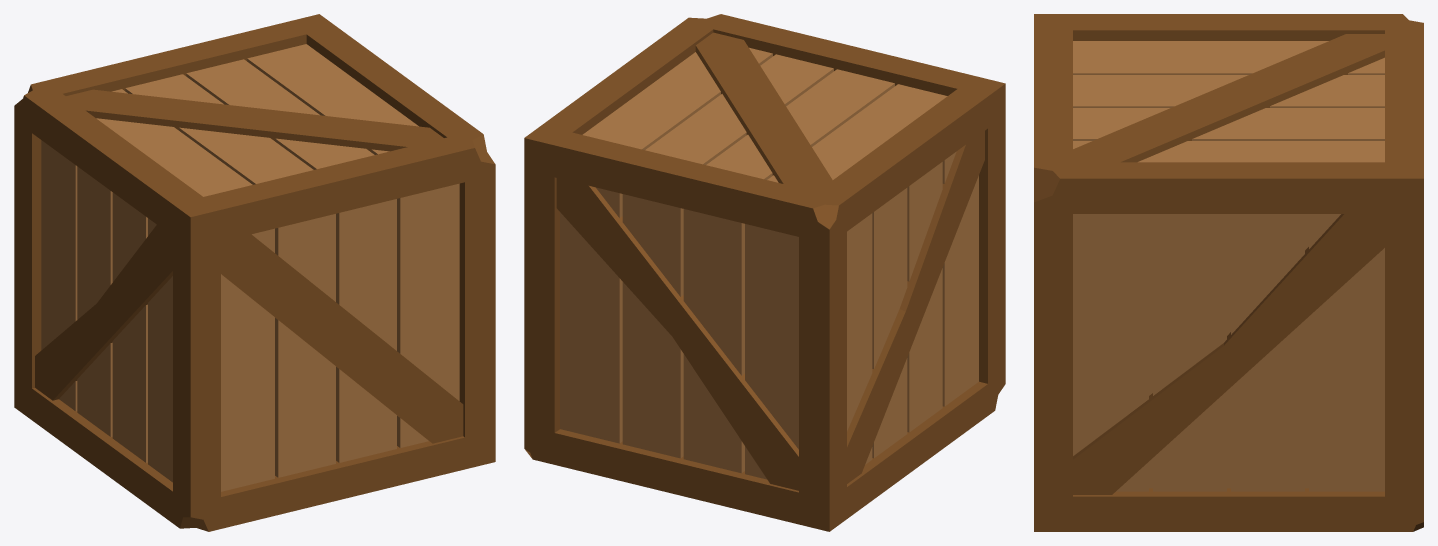
File: Crate.001.fbx
3 renders of one model, left to right at view 1: azimuth 30°, elevation 25°; view 2: azimuth 150°, elevation 25°; view 3: azimuth 270°, elevation 25°, orthographic. The views are drawn at different scales.
Parts seen in each view (by area): view 1: Crate.001; view 2: Crate.001; view 3: Crate.001.
Part boxes in pixels (x1,y1,x2,y2): Crate.001: (14, 14, 495, 531); Crate.001: (524, 14, 1005, 531); Crate.001: (1034, 14, 1423, 531).
Size of the model in its own units: 0.5 by 0.5 by 0.5.
